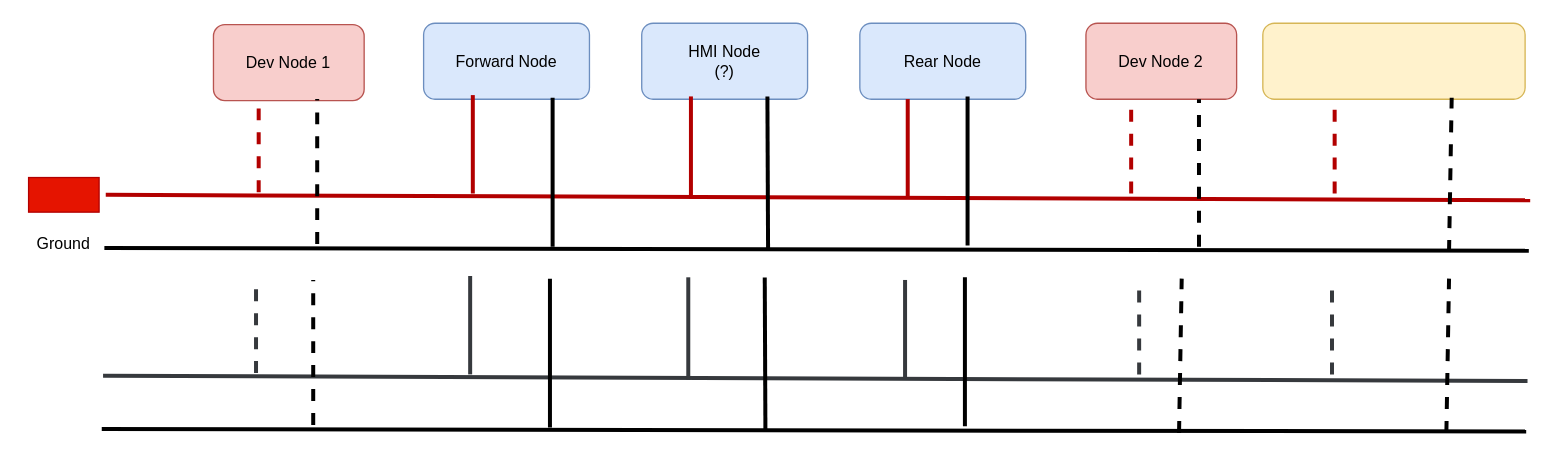
This 1556x459 diagram has some shape labels left out. Each missing label, with the centre of its shape:
Logger OR Live Telemetry: (x=1393, y=60)
Power: (x=63, y=194)
